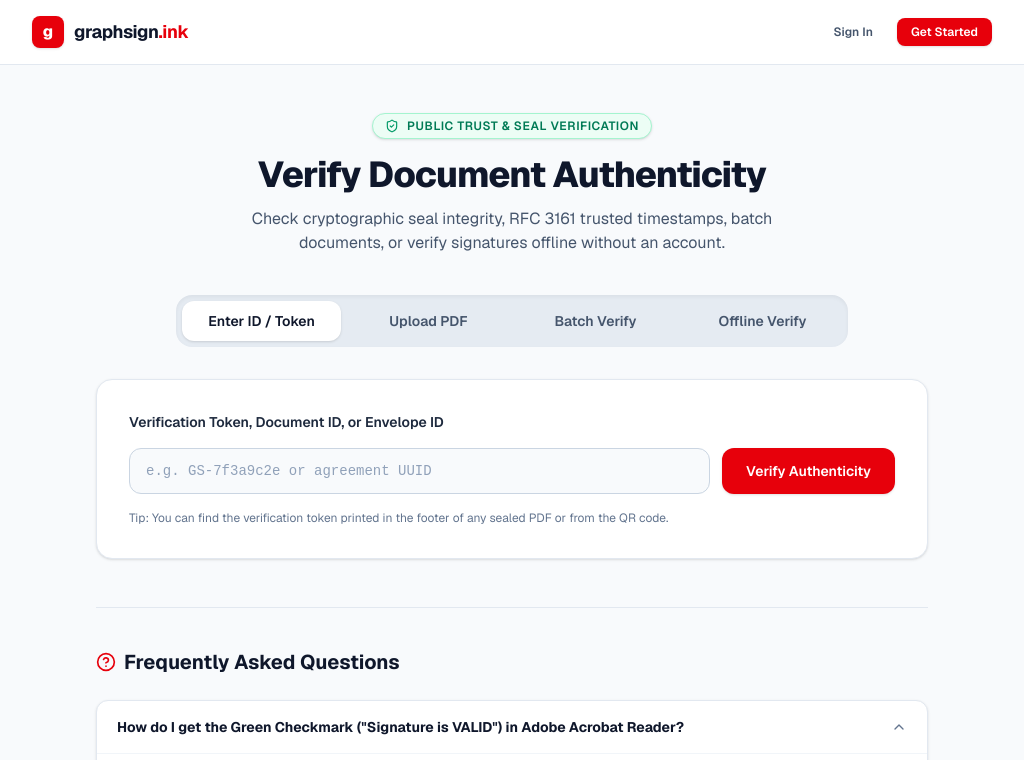
Test: PublicVerifyPage Component Tests (INK-135 to INK-139) › displays Expired status banner for expired signatures (INK-139)
Type "GS-expired-123" into the field labelled "Verification Token, Document ID, or Envelope ID".
click(420, 471); type("GS-expired-123")  # box [129, 448, 710, 494]
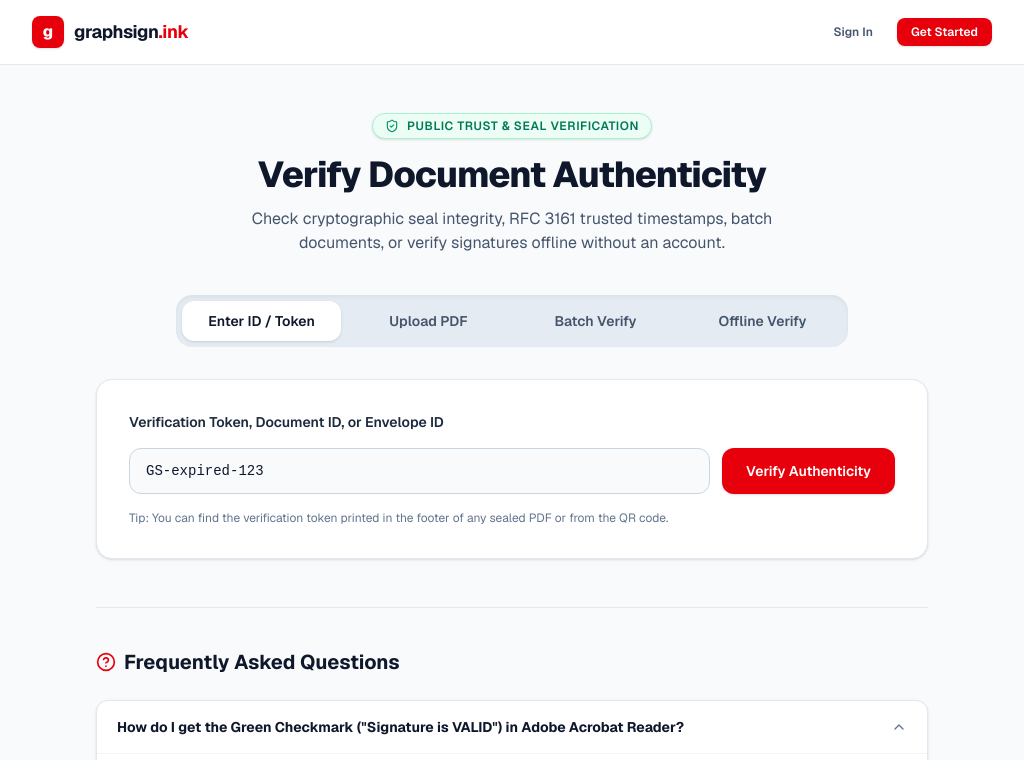
Click the button "Verify Authenticity".
click(808, 471)  # box [722, 448, 895, 494]
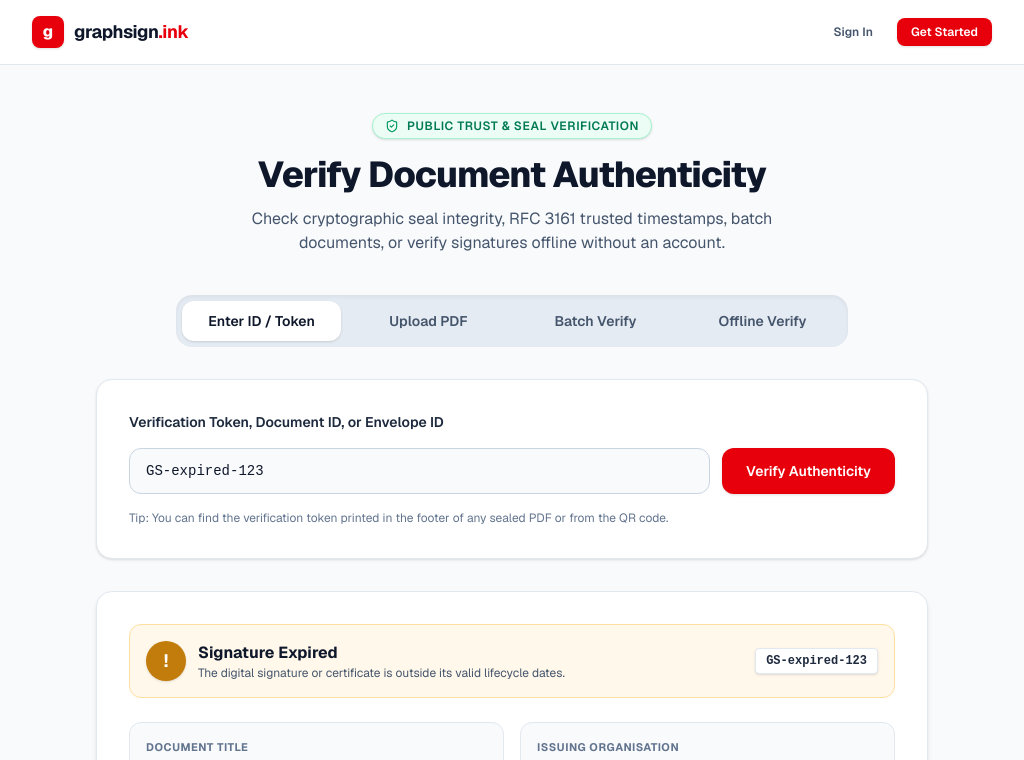
Expected: the heading "Signature Expired" is shown, [198, 642, 338, 663]
Expected: the text "outside its valid lifecycle dates" is shown, [198, 665, 565, 681]
